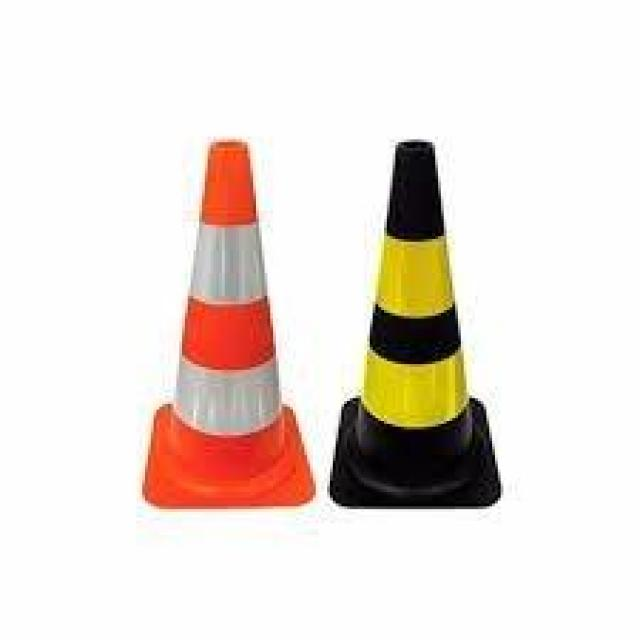cone: (330, 126, 520, 525), (139, 122, 323, 528)
